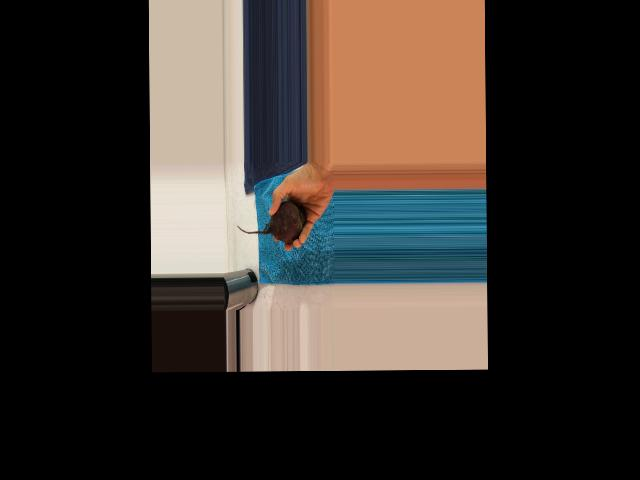beet: (237, 201, 307, 244)
